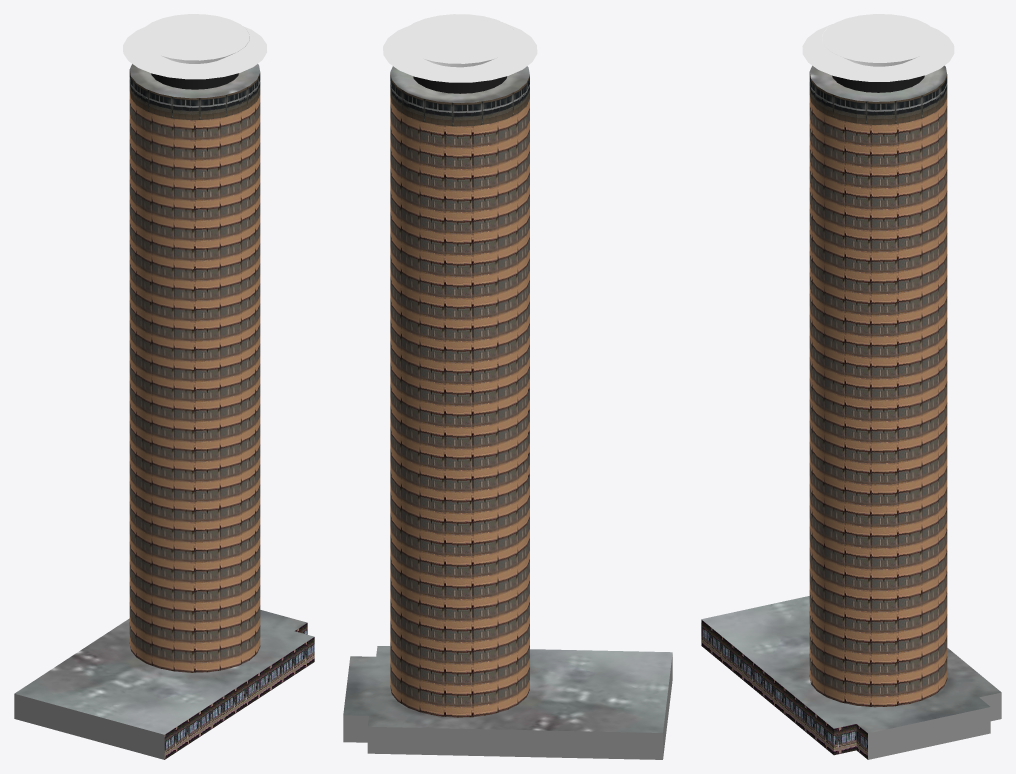
File: Kenyatta-International-Conference-Centre-(Nairobu---Kenya).fbx
3 renders of one model, left to right at view 1: azimuth 30°, elevation 25°; view 2: azimuth 150°, elevation 25°; view 3: azimuth 270°, elevation 25°, orthographic. The views are drawn at different scales.
Parts seen in each view (by area): view 1: Model; view 2: Model; view 3: Model.
Boxes of the visible parts, x1,y1,x2,y2 form: Model: (14,14,314,759); Model: (343,14,672,759); Model: (701,14,1001,759).
Size of what is drawn, in the model's own units: 56 by 116 by 47.26.
